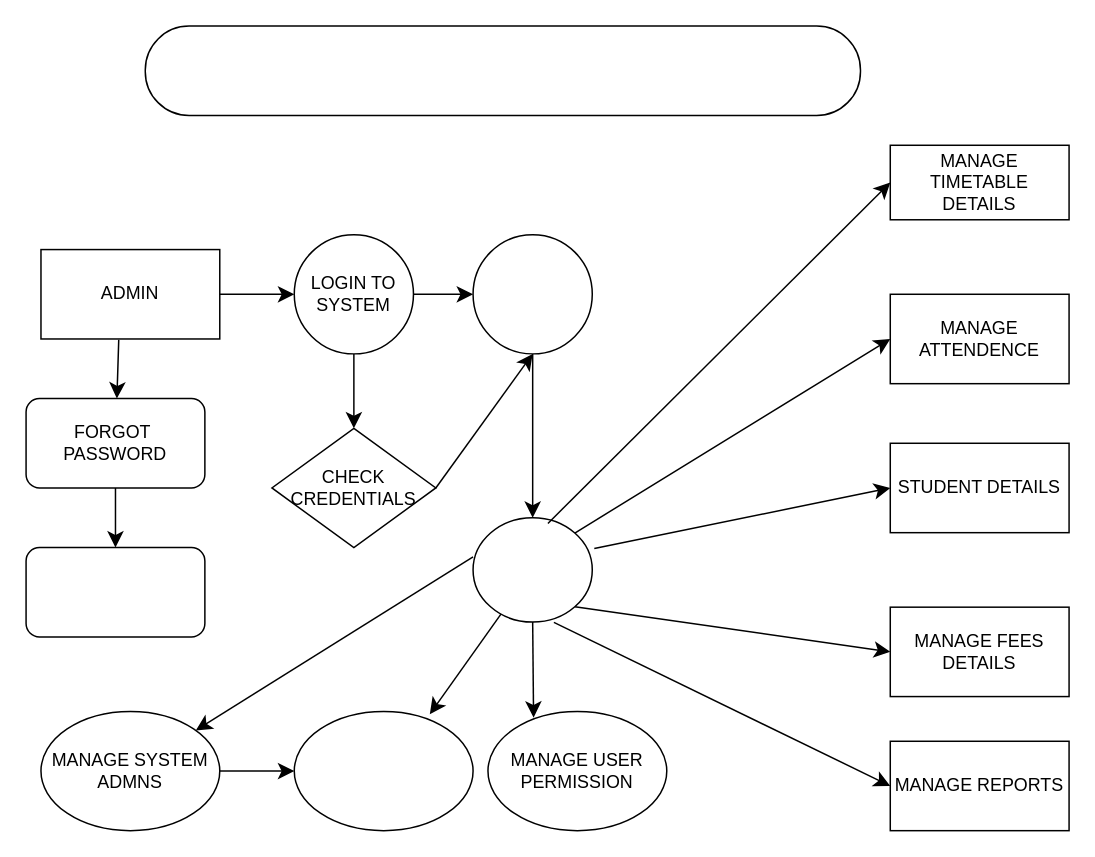
This 1095x857 diagram has some shape labels left out. The shapes that lost their labels are listed below. From the top down, each one's centre as x and y in pixels, then its label:
At pixel 502 70: "STUDENT INFORMATION SYSTEM".
At pixel 532 293: "CHECKROLES OF ACCESS".
At pixel 532 569: "MANAGE MMODELS".
At pixel 115 591: "SEND EMAIL TO USER".
At pixel 383 770: "MANAGE ROLES OF USER".
